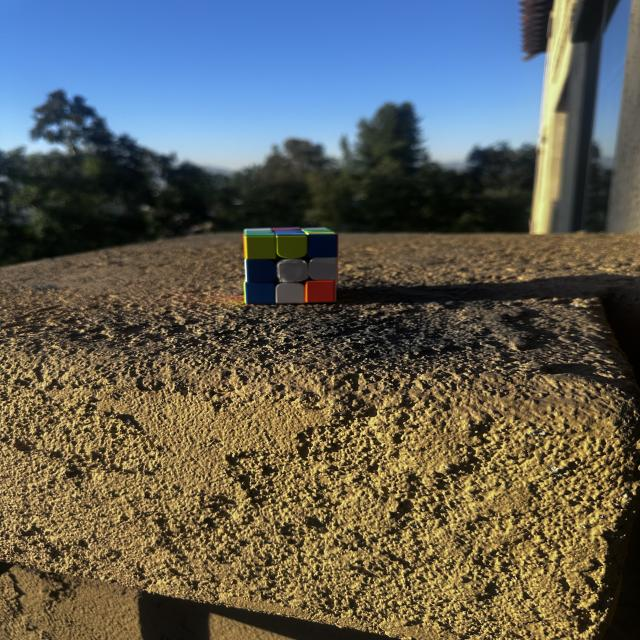sticker: (278, 258, 308, 285), (309, 260, 340, 284), (307, 237, 338, 260), (246, 261, 278, 283), (277, 284, 310, 304), (247, 238, 278, 258), (245, 282, 276, 302), (280, 237, 308, 257), (308, 281, 332, 303)
